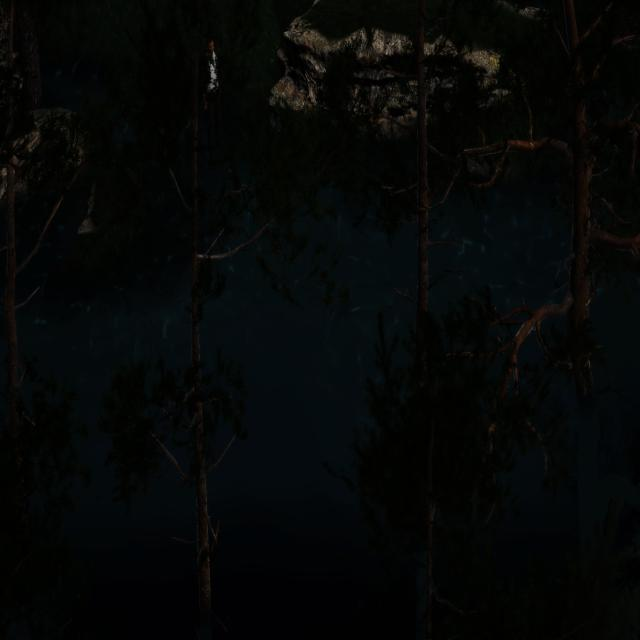Human: (194, 18, 225, 175)
